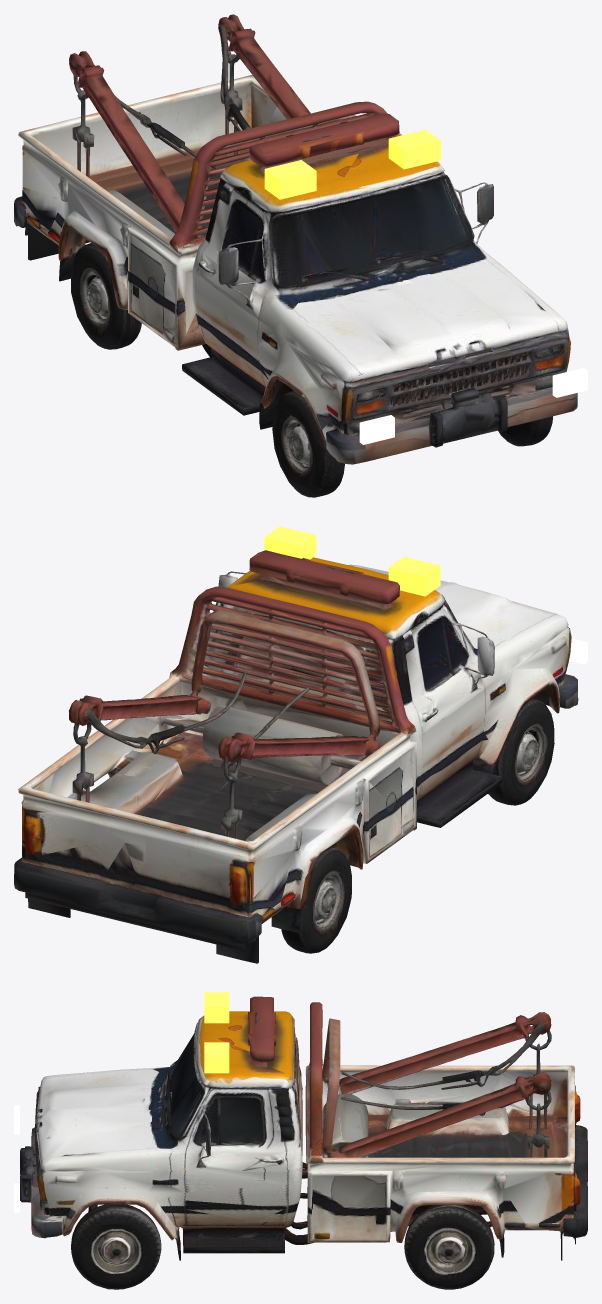
The model's file is tow-light.glb.
The picture shows the model from 3 angles, top to bottom: view 1: azimuth 30°, elevation 25°; view 2: azimuth 150°, elevation 25°; view 3: azimuth 270°, elevation 25°; orthographic projection. The views are drawn at different scales.
Visible parts, largest first — view 1: body, boom, wheel_0_R, wheel_1_R, beacon_R, beacon_L, lamp_head_R, lamp_head_L, wheel_0_L; view 2: body, boom, wheel_1_R, wheel_0_R, beacon_R, beacon_L; view 3: body, boom, wheel_1_L, wheel_0_L, beacon_L, beacon_R.
Part boxes in pixels (bbox=[...]): body: bbox=[14, 85, 577, 497]; boom: bbox=[18, 14, 310, 232]; wheel_0_R: bbox=[265, 379, 344, 497]; wheel_1_R: bbox=[58, 243, 141, 349]; beacon_R: bbox=[264, 160, 316, 199]; beacon_L: bbox=[388, 129, 440, 169]; lamp_head_R: bbox=[359, 415, 394, 444]; lamp_head_L: bbox=[552, 368, 587, 397]; wheel_0_L: bbox=[498, 416, 552, 446]; body: bbox=[14, 550, 578, 963]; boom: bbox=[18, 677, 387, 850]; wheel_1_R: bbox=[271, 846, 351, 953]; wheel_0_R: bbox=[489, 698, 554, 805]; beacon_R: bbox=[388, 556, 440, 596]; beacon_L: bbox=[264, 526, 316, 559]; body: bbox=[20, 996, 587, 1278]; boom: bbox=[348, 1012, 574, 1164]; wheel_1_L: bbox=[404, 1205, 504, 1289]; wheel_0_L: bbox=[71, 1204, 165, 1289]; beacon_L: bbox=[204, 1042, 229, 1073]; beacon_R: bbox=[204, 992, 229, 1023].
Bounding box in the file's own units: 2.61 × 2.44 × 5.72.
3 materials, 1 textured.
